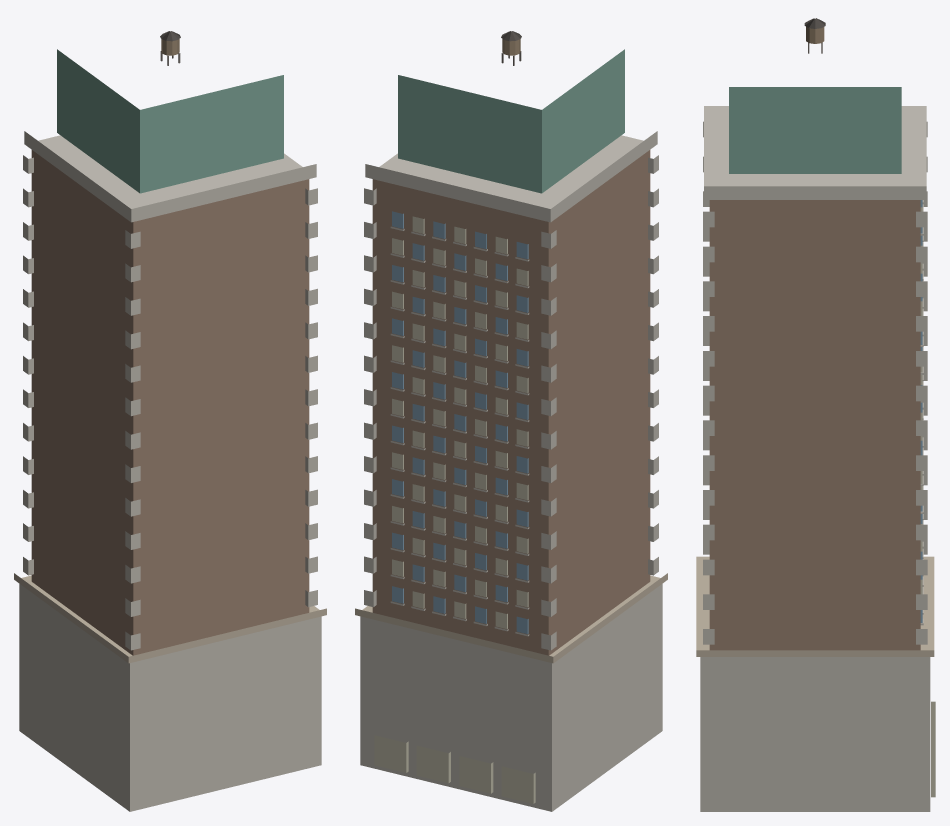
File: tower_prewar.glb
3 views of the same model, side by side, from view 1: azimuth 30°, elevation 25°; view 2: azimuth 150°, elevation 25°; view 3: azimuth 270°, elevation 25° (orthographic). The views are drawn at different scales.
Parts seen in each view (by area): view 1: Mesh; view 2: Mesh; view 3: Mesh.
Boxes of the visible parts, x1=… form: Mesh: x1=14, y1=31, x2=326, y2=811; Mesh: x1=355, y1=31, x2=667, y2=811; Mesh: x1=696, y1=18, x2=935, y2=811.
Bounding box in the file's own units: 24.8 × 85.7 × 24.95.
